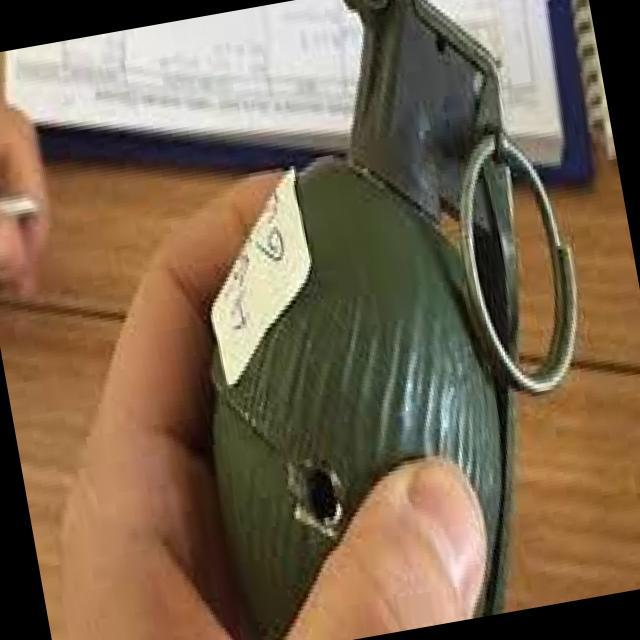grenade: (130, 0, 627, 633)
